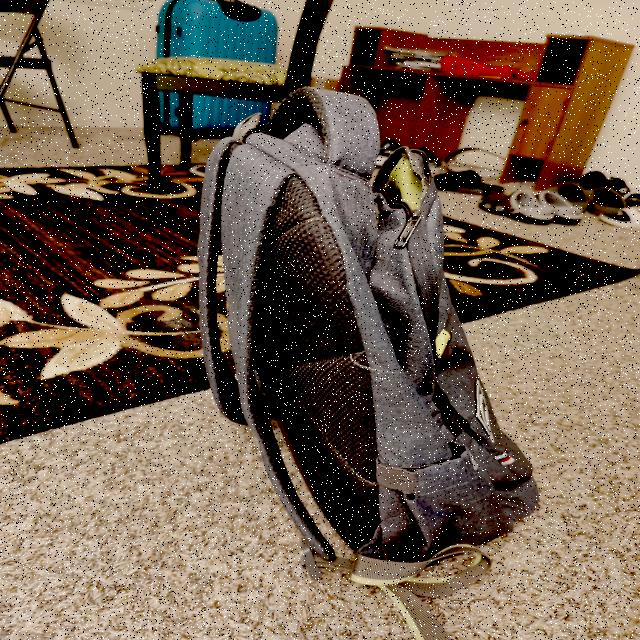bag: (192, 86, 566, 565)
